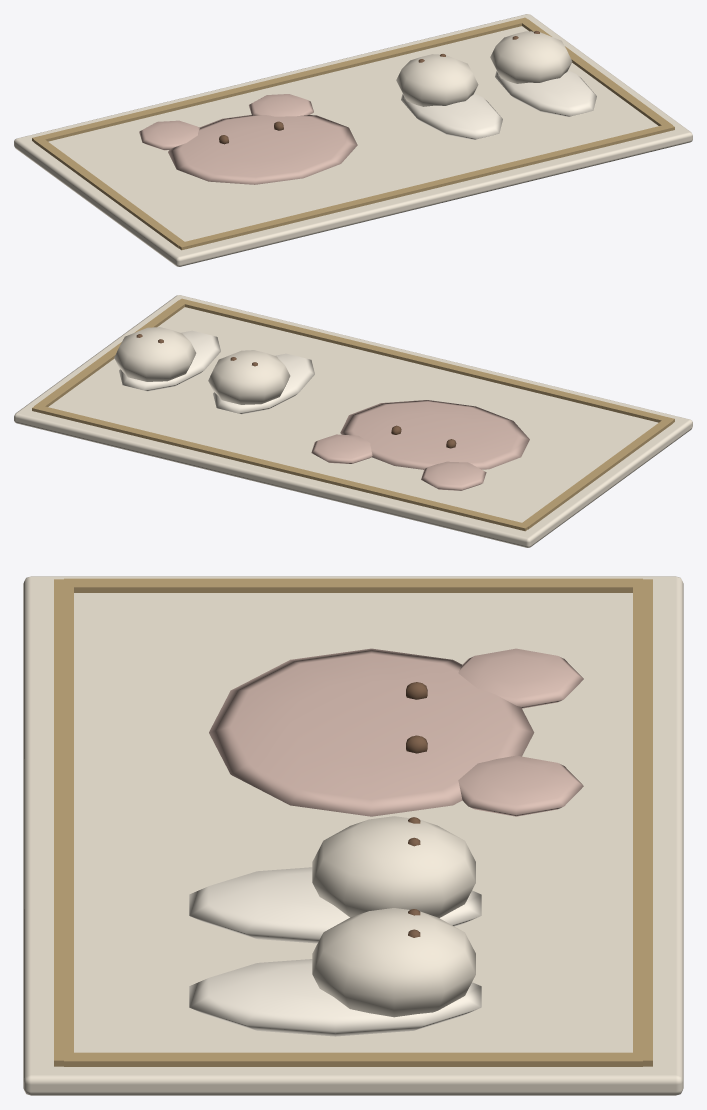
The model's file is bedroom_ref_entry_mat.glb.
3 views of the same model, one above another, from view 1: azimuth 30°, elevation 25°; view 2: azimuth 150°, elevation 25°; view 3: azimuth 270°, elevation 25° (orthographic). The views are drawn at different scales.
Bounding box in the file's own units: 1.32 × 0.135 × 0.73.
